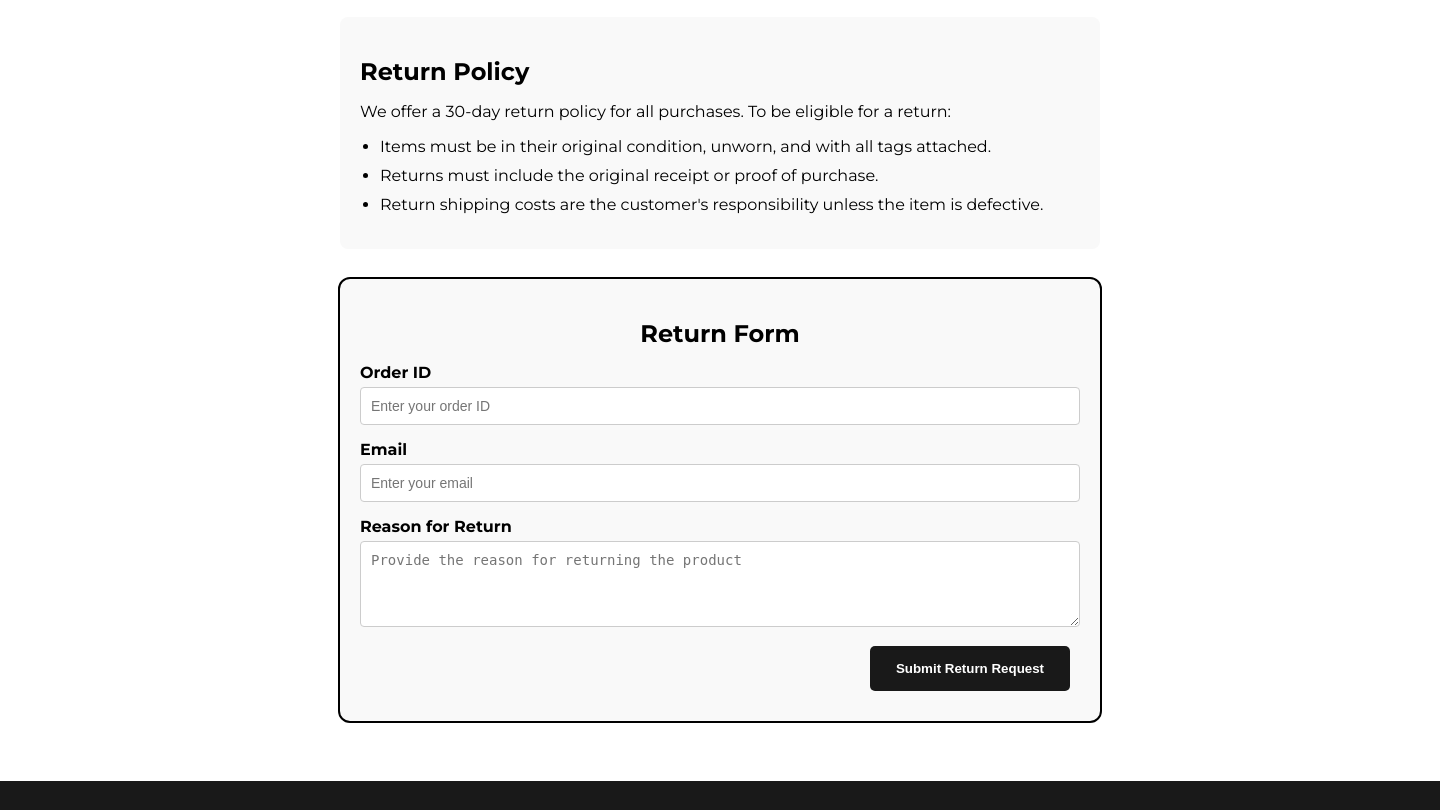
Test case: ReturnProductPage Component › displays a success message after submitting the return form
(page scrolled)
Type "12345" into the field labelled "Order ID" at (720, 406), box x1=360 y1=387 x2=1080 y2=425
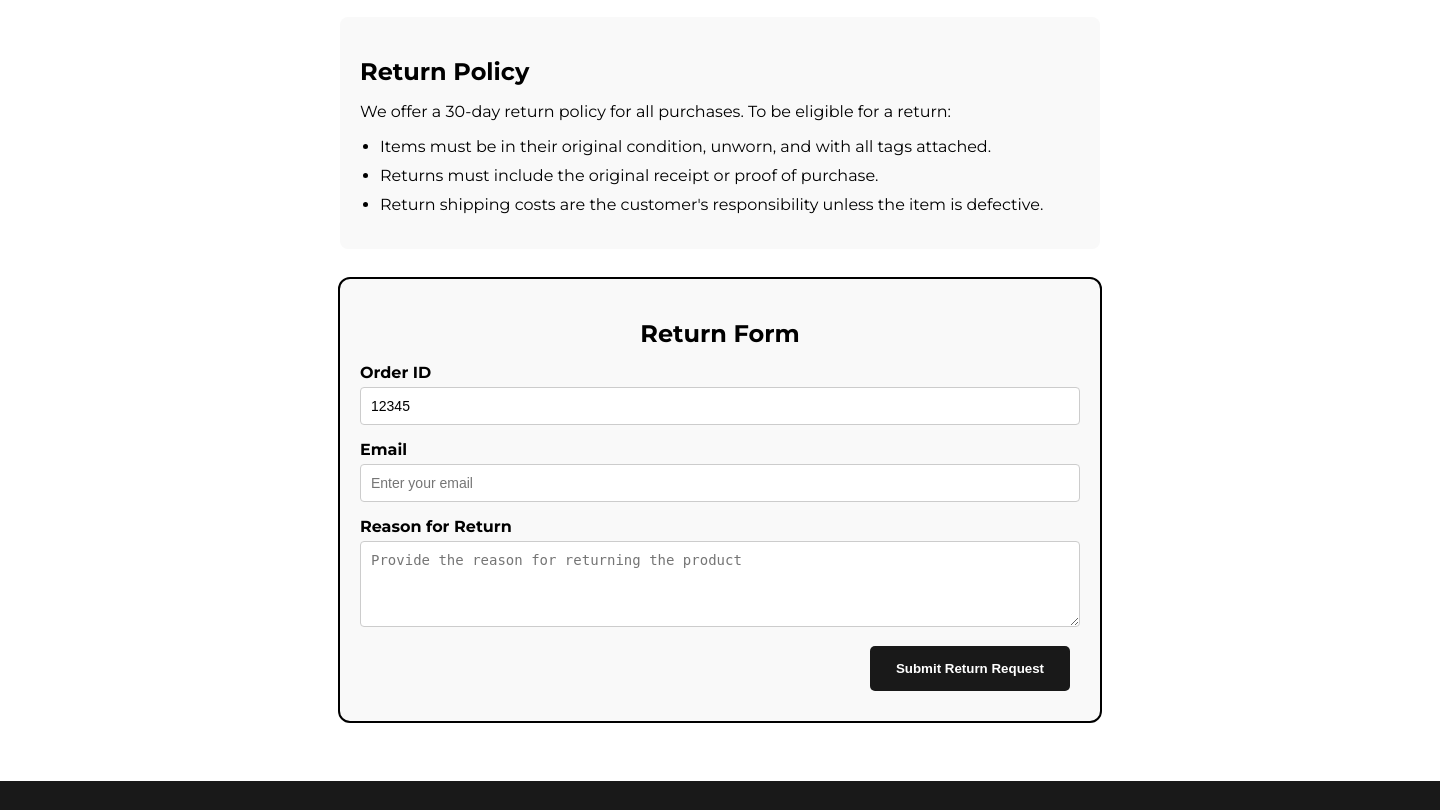
Type "test@example.com" into the field labelled "Email" at (720, 483), box x1=360 y1=464 x2=1080 y2=502
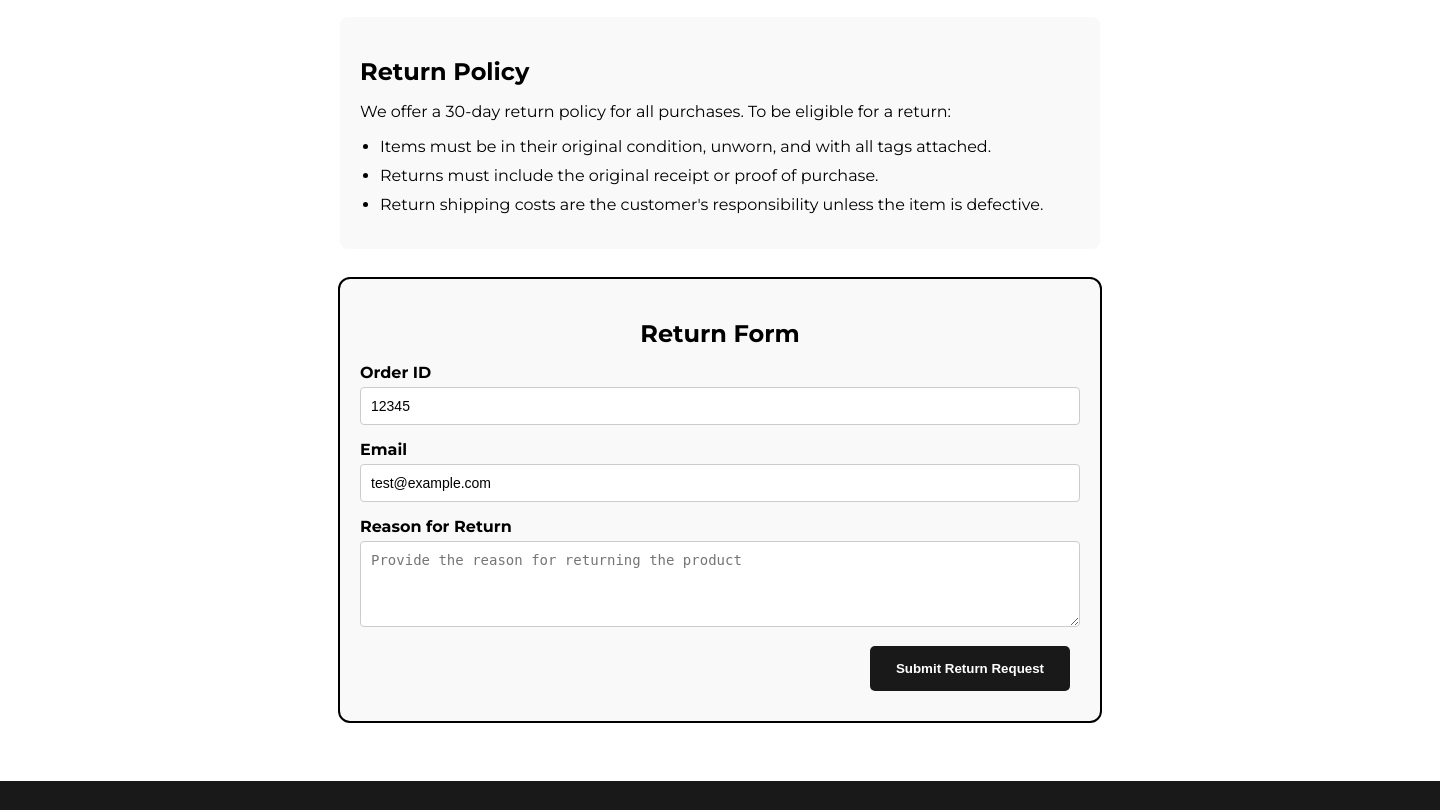
Type "Wrong size" into the text box labelled "Reason for Return" at (720, 584), box x1=360 y1=541 x2=1080 y2=627
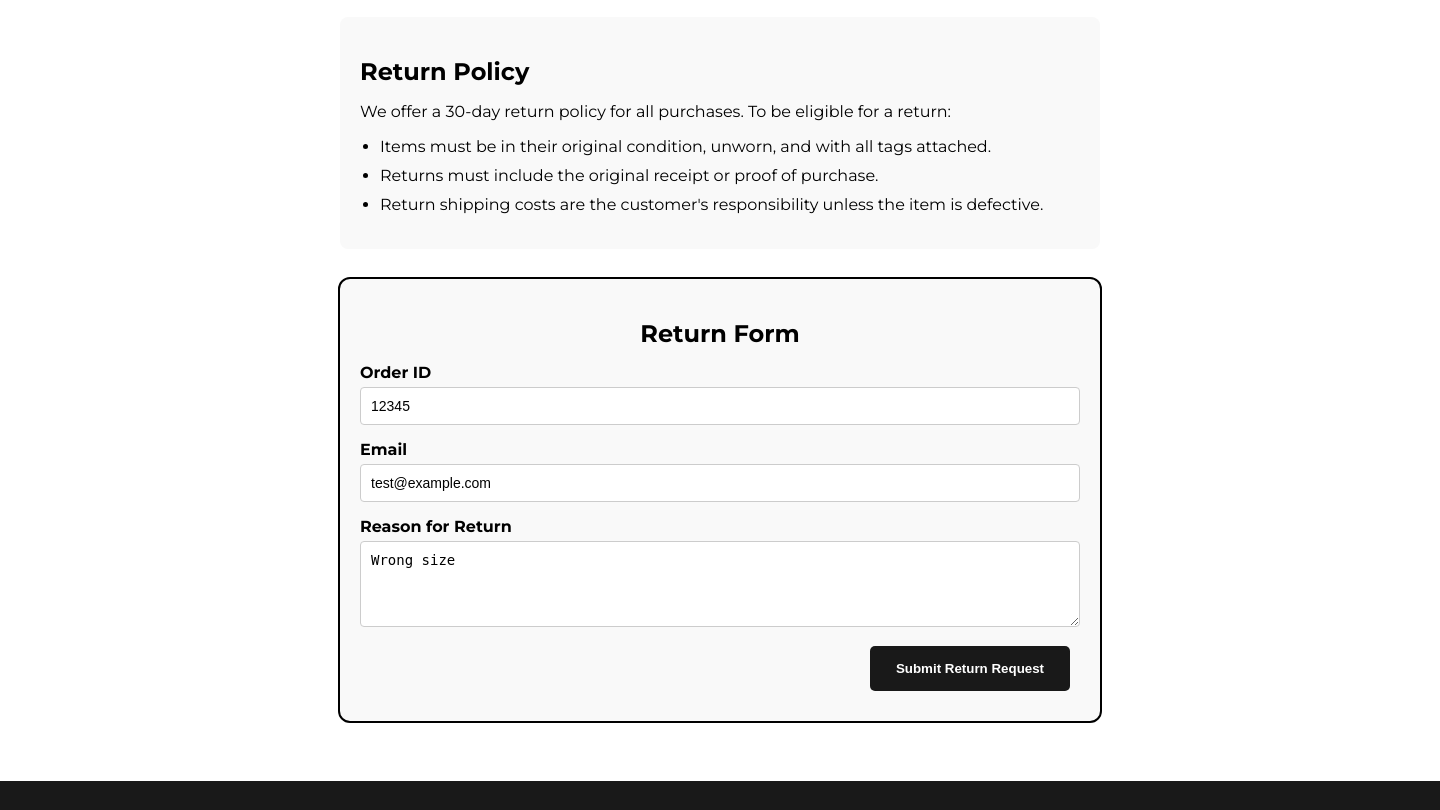
Click the button "Submit Return Request" at (970, 668), box x1=870 y1=646 x2=1070 y2=691
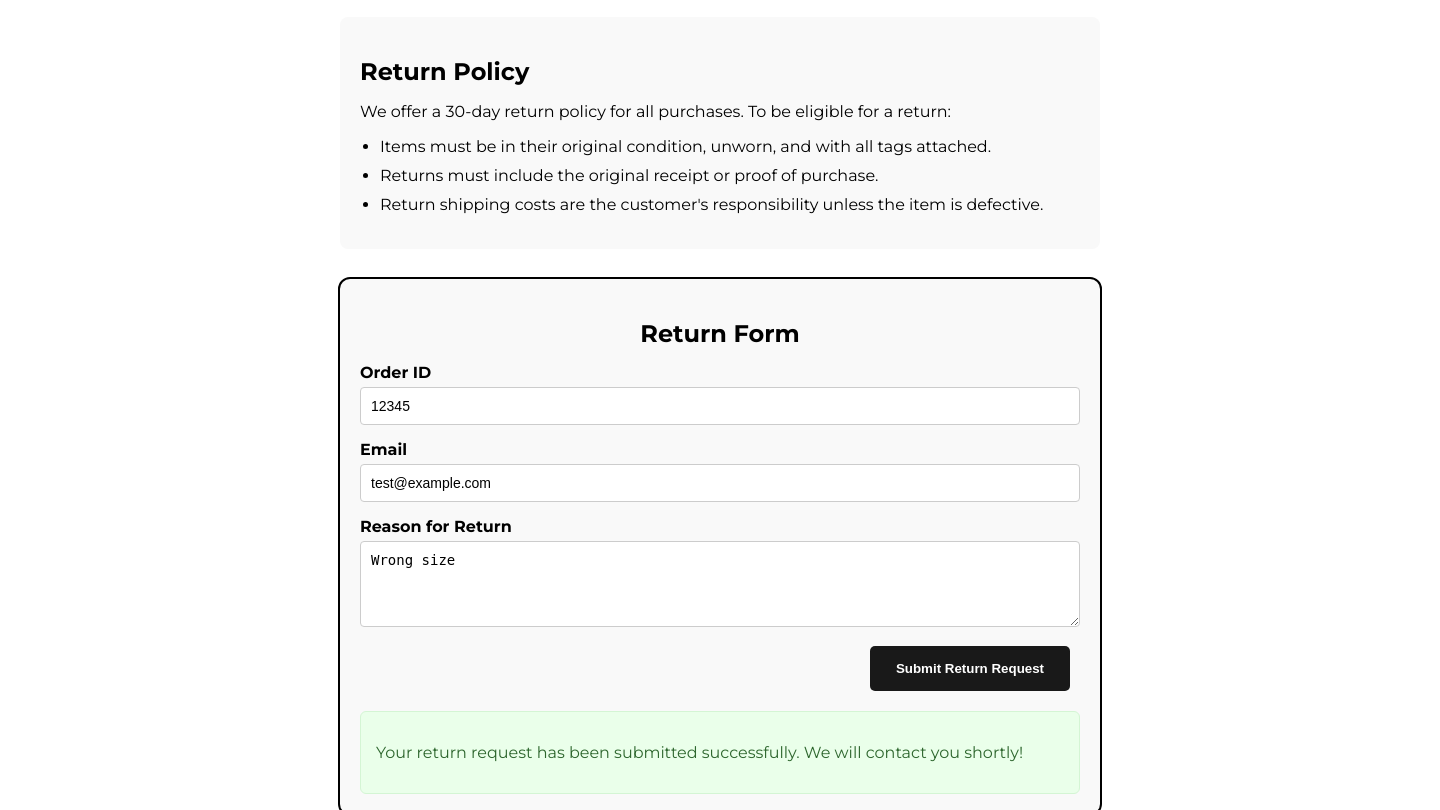
Now the text "Your return request has been submitted successfully. We will contact you shortly!" is shown, box x1=376 y1=743 x2=1023 y2=762
